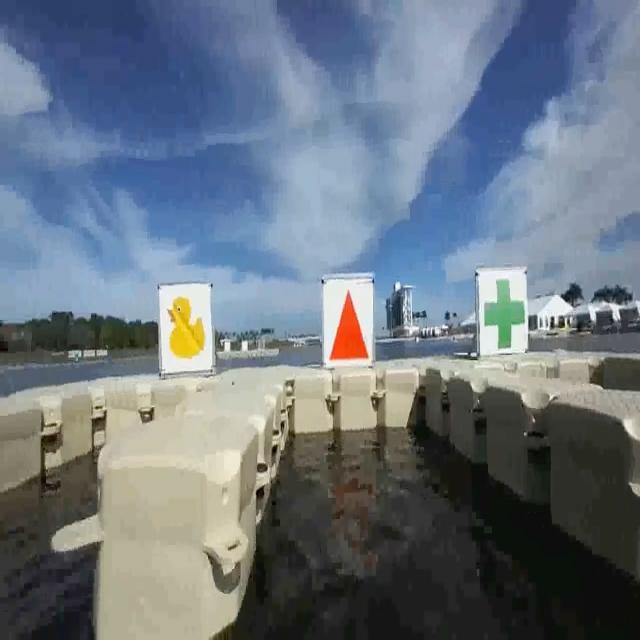blue-cross: (479, 271, 524, 350)
red-dot: (319, 280, 372, 365)
yellow-duck: (167, 294, 206, 360)
